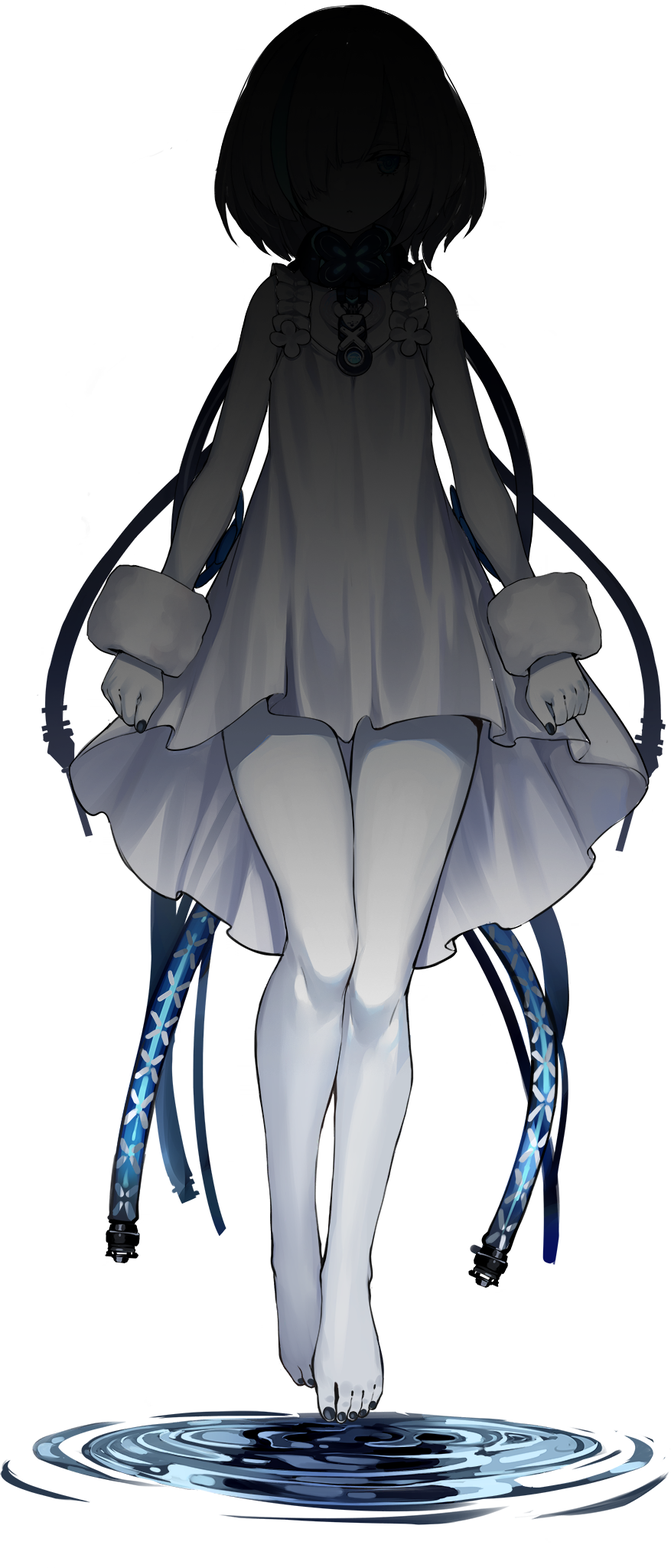person: (3, 0, 669, 1408)
